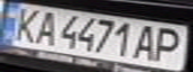1: (112, 19, 136, 57)
4: (54, 12, 81, 50), (75, 15, 100, 52)
7: (93, 17, 115, 55)
A: (130, 22, 163, 61), (30, 8, 60, 46)
K: (6, 5, 45, 44)
P: (148, 25, 187, 63)
